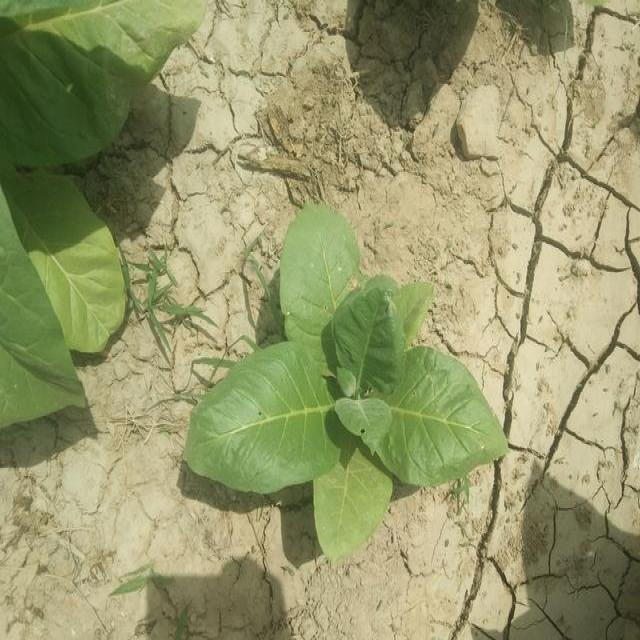crop: (193, 214, 507, 553), (0, 0, 208, 166), (0, 168, 118, 432)
